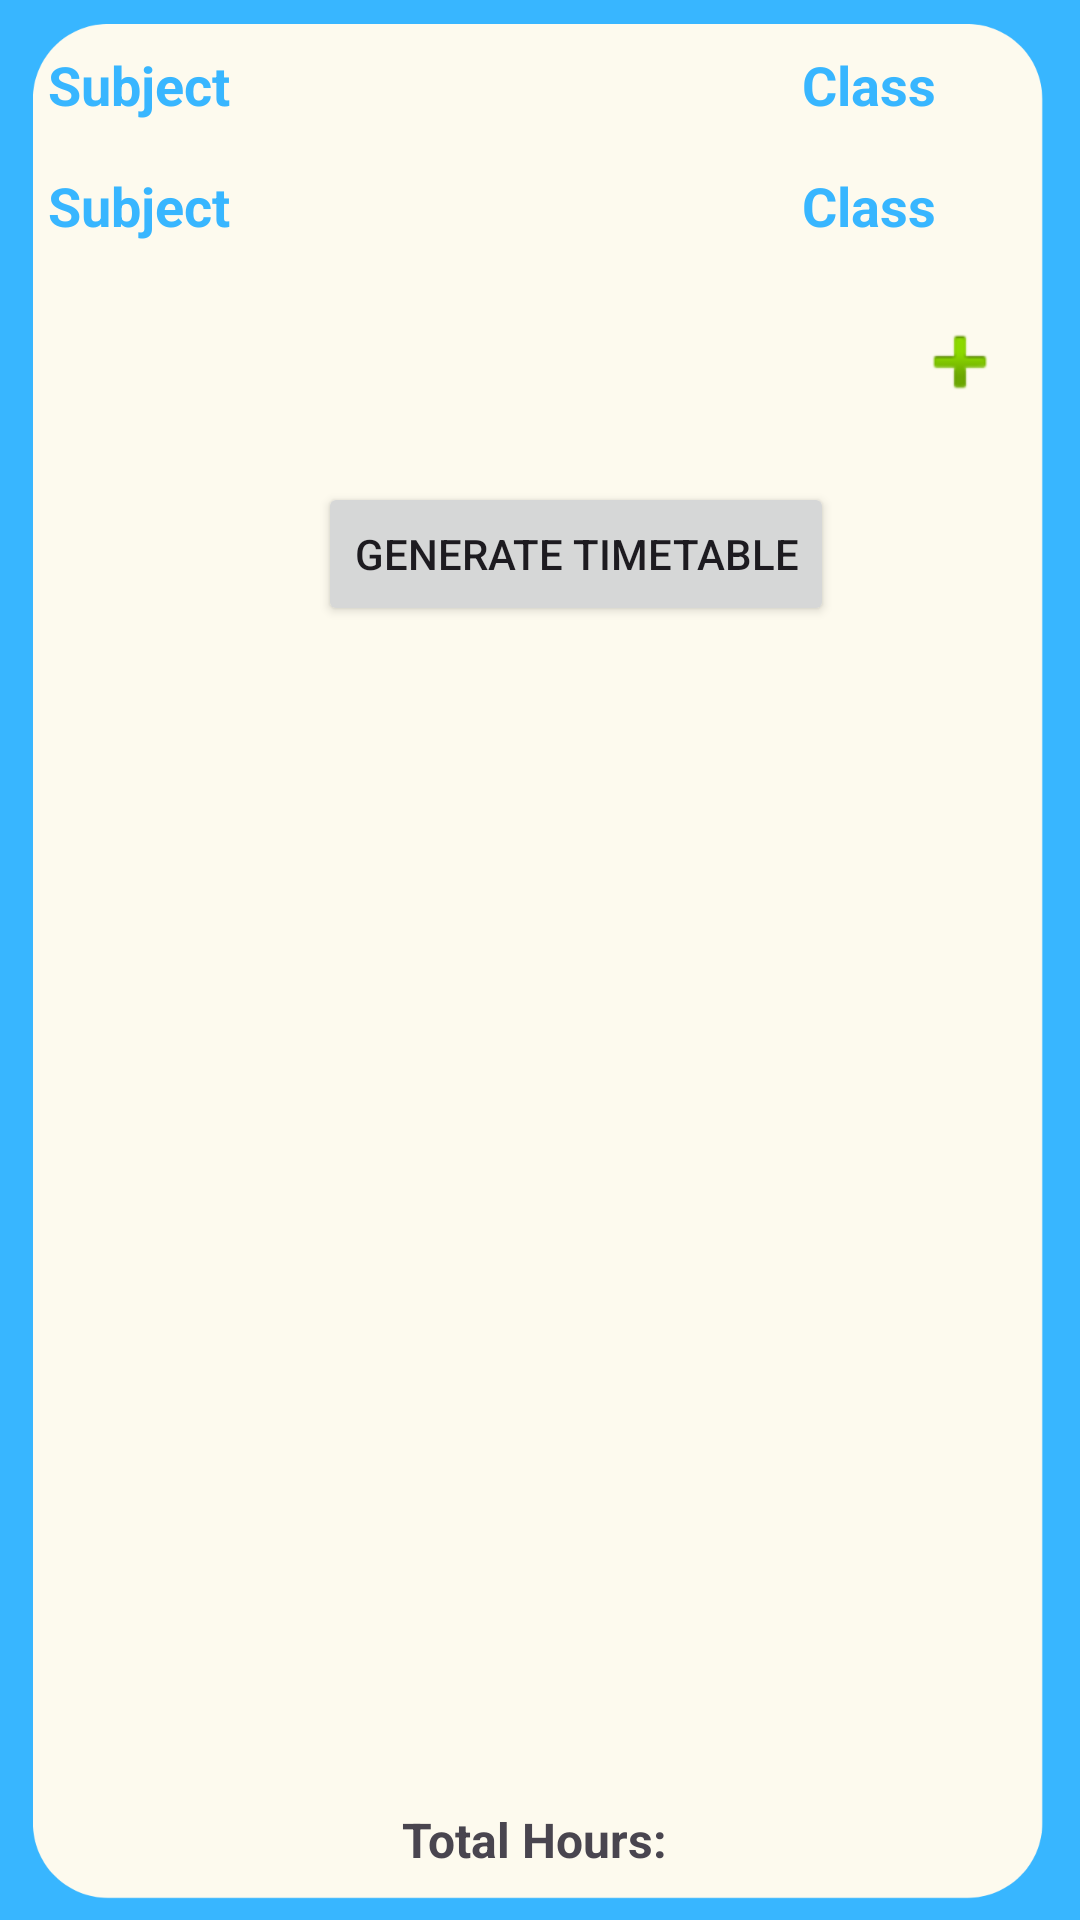

Icons on this 1080 × 1920 Android screen, each with its box as (x1, y1, x2, y2):
Add Current Subject: (933, 335, 987, 389)
